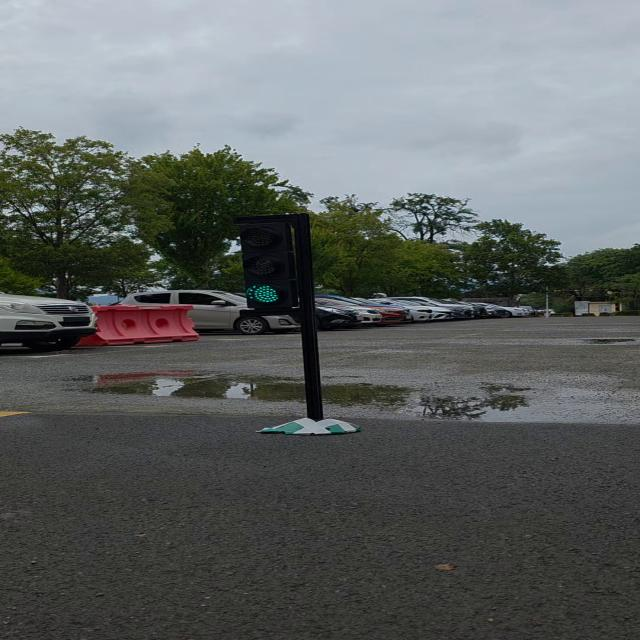green: (237, 216, 314, 312)
